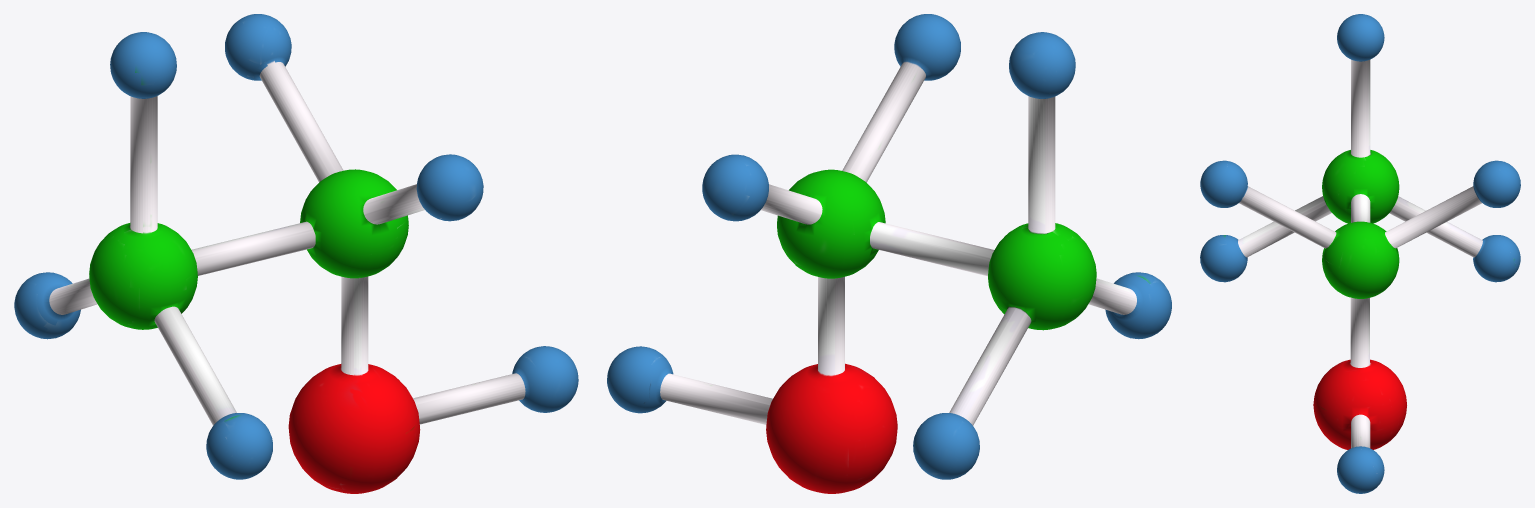
File: newEthanolmodel.obj
The picture shows the model from 3 angles, left to right: view 1: azimuth 30°, elevation 25°; view 2: azimuth 150°, elevation 25°; view 3: azimuth 270°, elevation 25°; orthographic projection. The views are drawn at different scales.
Parts seen in each view (by area): view 1: Sphere; view 2: Sphere; view 3: Sphere.
Part boxes in pixels (x1=…): Sphere: x1=14, y1=14, x2=578, y2=493; Sphere: x1=607, y1=14, x2=1171, y2=493; Sphere: x1=1200, y1=14, x2=1520, y2=493.
Bounding box in the file's own units: 10.12 × 10.2 × 8.27.
1 material, 1 textured.
